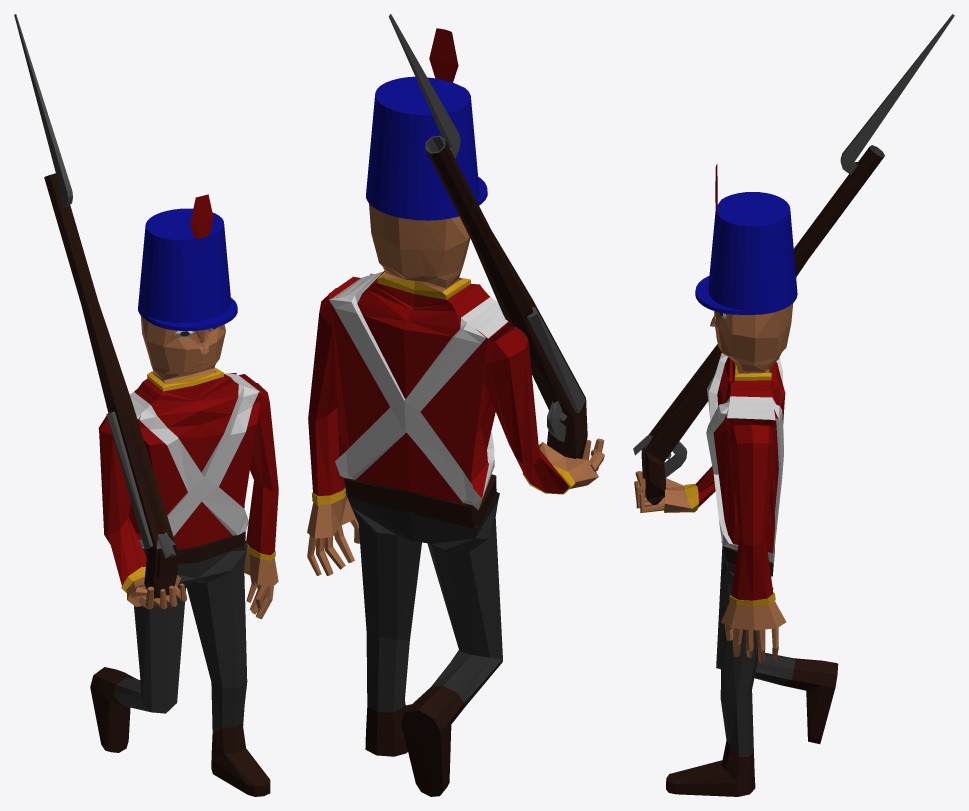
The model's file is Infantry_000152.obj.
The picture shows the model from 3 angles, left to right: view 1: azimuth 30°, elevation 25°; view 2: azimuth 150°, elevation 25°; view 3: azimuth 270°, elevation 25°; orthographic projection. The views are drawn at different scales.
Parts seen in each view (by area): view 1: {Man}_Circle, {Mesket}_Cube.001; view 2: {Man}_Circle, {Mesket}_Cube.001; view 3: {Man}_Circle, {Mesket}_Cube.001.
Part boxes in pixels (box(x1,y1,x2,y2)): {Man}_Circle: box(90, 194, 278, 796); {Mesket}_Cube.001: box(14, 14, 177, 598); {Man}_Circle: box(307, 28, 604, 796); {Mesket}_Cube.001: box(388, 14, 587, 458); {Man}_Circle: box(634, 164, 838, 796); {Mesket}_Cube.001: box(633, 14, 954, 504).
Size of the model in its own units: 5.63 by 19.62 by 7.93.
